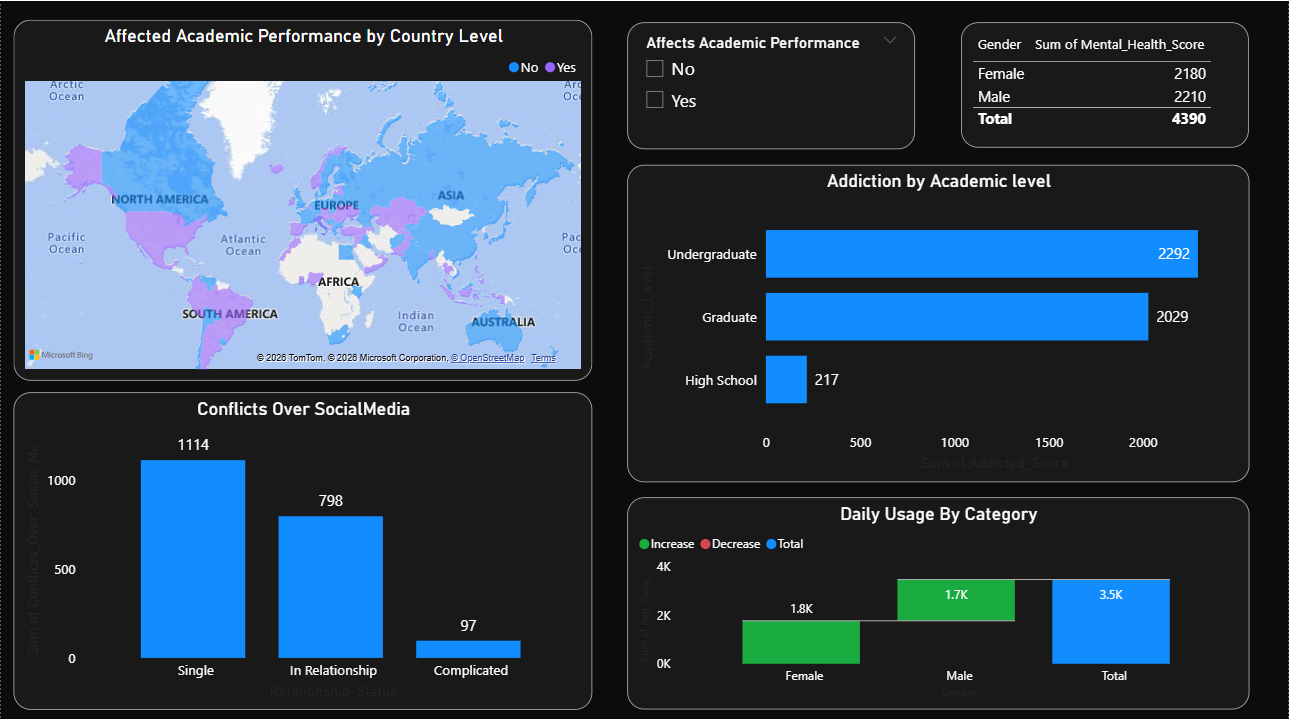

Layout of this report page (visuals, bound fields, positions):
{"tool":"powerbi","page":{"name":"Page 2","canvas":[1280,720],"ordinal":1},"visuals":[{"type":"filledMap","title":"Affected Academic Performance by Country Level","fields":{"Category":["Students Social Media Addiction.Country"],"Series":["Students Social Media Addiction.Affects_Academic_Performance"]},"box":[12.4,18.7,576,359.5],"z":0},{"type":"clusteredColumnChart","title":"Conflicts Over SocialMedia","fields":{"Y":["Sum(Students Social Media Addiction.Conflicts_Over_Social_Media)"],"Category":["Students Social Media Addiction.Relationship_Status"]},"box":[12.4,389.4,576,316],"z":1000},{"type":"slicer","fields":{"Values":["Students Social Media Addiction.Affects_Academic_Performance"]},"box":[623,20.6,286.8,126.2],"z":2000},{"type":"tableEx","fields":{"Values":["Students Social Media Addiction.Gender","Sum(Students Social Media Addiction.Mental_Health_Score)"]},"box":[955.1,20.6,286.8,124.9],"z":3000},{"type":"barChart","title":"Addiction by Academic level","fields":{"Category":["Students Social Media Addiction.Academic_Level"],"Y":["Sum(Students Social Media Addiction.Addicted_Score)"]},"box":[623,163.3,618.9,315.6],"z":4000},{"type":"waterfallChart","title":"Daily Usage By Category","fields":{"Category":["Students Social Media Addiction.Gender"],"Y":["Sum(Students Social Media Addiction.Avg_Daily_Usage_Hours)"]},"box":[623,494,618.9,211.3],"z":5000}]}

Visuals, with their boxes in screenshot pixels (x1, y1, x2, y2), scaled from the page's 1280x720 canvas onto the 1289x719 screenshot:
"Affected Academic Performance by Country Level" filledMap: 12,19,593,378
"Conflicts Over SocialMedia" clusteredColumnChart: 12,389,593,704
slicer - Students Social Media Addiction.Affects_Academic_Performance: 627,21,916,147
tableEx - Students Social Media Addiction.Gender x Sum(Students Social Media Addiction.Mental_Health_Score): 962,21,1251,145
"Addiction by Academic level" barChart: 627,163,1251,478
"Daily Usage By Category" waterfallChart: 627,493,1251,704
